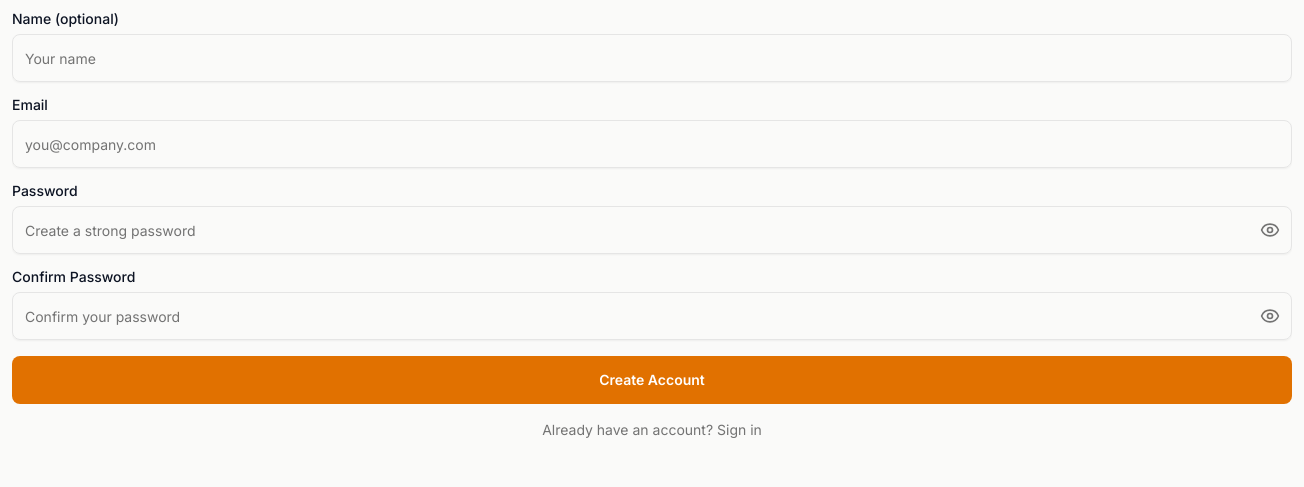
Test: RegisterForm › Password strength indicator › should show password strength when typing
Type "Password123!" into the password field labelled "Password". click: (652,230)
box: [12,206,1292,254]
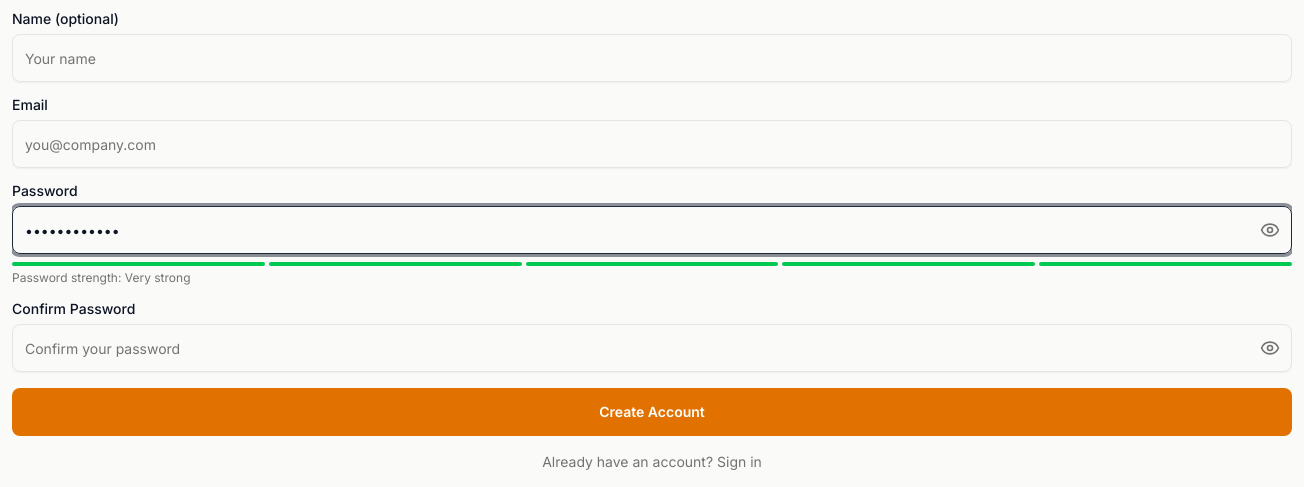
expect the text "Password strength: Very strong" is shown: met, box [12,270,190,285]
